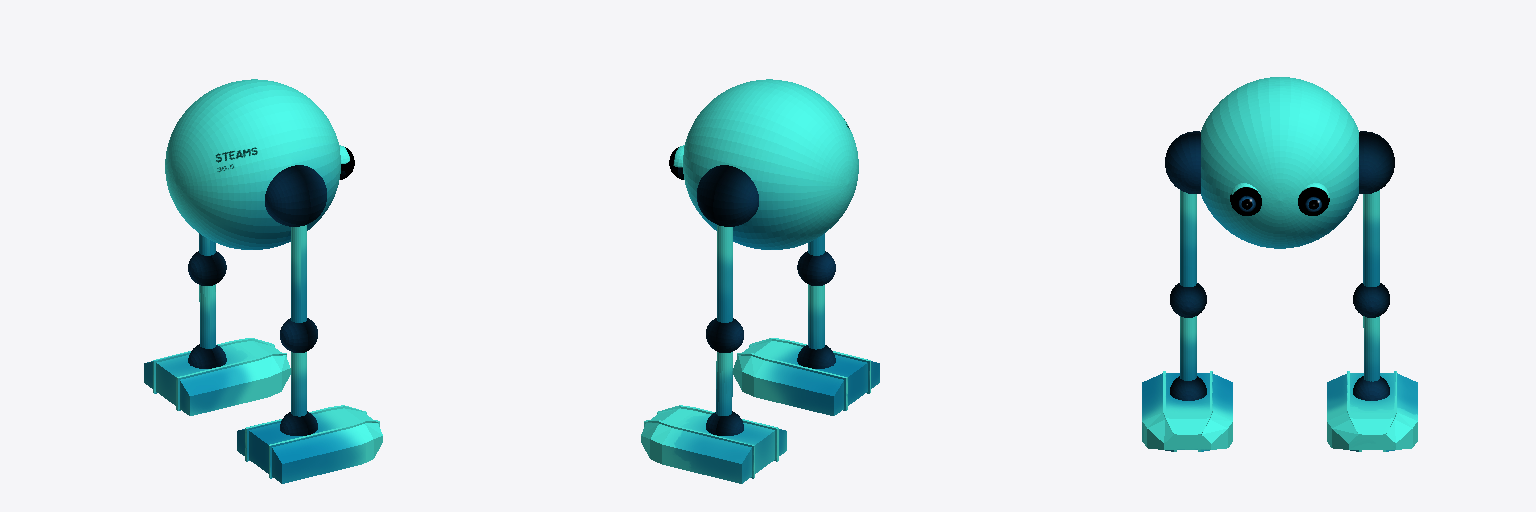
The picture shows the model from 3 angles: view 1: azimuth 30°, elevation 25°; view 2: azimuth 150°, elevation 25°; view 3: azimuth 270°, elevation 25°; orthographic projection.
Parts seen in each view (by area): view 1: Personaje1_still:SphereFBXASC046001, Personaje1_still:SphereFBXASC046001Left_legpolySurface10polySurf, Personaje1_still:SphereFBXASC046001Right_legpolySurface9polySurf, Personaje1_still:SphereFBXASC046001Right_leg, Personaje1_still:SphereFBXASC046001Right_legpolySurface9, Personaje1_still:polySurface3, Personaje1_still:polySurface4, Personaje1_still:polySurface1, Personaje1_still:polySurface2; view 2: Personaje1_still:SphereFBXASC046001, Personaje1_still:SphereFBXASC046001Right_legpolySurface9polySurf, Personaje1_still:SphereFBXASC046001Left_legpolySurface10polySurf, Personaje1_still:SphereFBXASC046001Left_leg, Personaje1_still:SphereFBXASC046001Left_legpolySurface10, Personaje1_still:polySurface4, Personaje1_still:polySurface3, Personaje1_still:polySurface1, Personaje1_still:polySurface2; view 3: Personaje1_still:SphereFBXASC046001, Personaje1_still:SphereFBXASC046001Right_legpolySurface9polySurf, Personaje1_still:SphereFBXASC046001Left_legpolySurface10polySurf, Personaje1_still:SphereFBXASC046001Right_leg, Personaje1_still:SphereFBXASC046001Left_leg, Personaje1_still:SphereFBXASC046001Right_legpolySurface9, Personaje1_still:SphereFBXASC046001Left_legpolySurface10, Personaje1_still:polySurface3, Personaje1_still:polySurface4, Personaje1_still:SphereFBXASC046001Right_eye, Personaje1_still:SphereFBXASC046001Left_eye, Personaje1_still:polySurface2 (+1 smaller).
Part boxes in pixels (x1,y1,x2,y2): Personaje1_still:SphereFBXASC046001: (165, 79, 340, 249); Personaje1_still:SphereFBXASC046001Left_legpolySurface10polySurf: (144, 284, 290, 415); Personaje1_still:SphereFBXASC046001Right_legpolySurface9polySurf: (237, 352, 382, 483); Personaje1_still:SphereFBXASC046001Right_leg: (265, 165, 326, 226); Personaje1_still:SphereFBXASC046001Right_legpolySurface9: (291, 225, 306, 322); Personaje1_still:polySurface3: (188, 251, 226, 285); Personaje1_still:polySurface4: (280, 318, 317, 352); Personaje1_still:polySurface1: (188, 344, 226, 368); Personaje1_still:polySurface2: (280, 411, 317, 435); Personaje1_still:SphereFBXASC046001: (683, 79, 858, 249); Personaje1_still:SphereFBXASC046001Right_legpolySurface9polySurf: (733, 284, 879, 415); Personaje1_still:SphereFBXASC046001Left_legpolySurface10polySurf: (641, 352, 786, 483); Personaje1_still:SphereFBXASC046001Left_leg: (697, 165, 758, 226); Personaje1_still:SphereFBXASC046001Left_legpolySurface10: (717, 225, 732, 322); Personaje1_still:polySurface4: (797, 251, 835, 285); Personaje1_still:polySurface3: (706, 318, 743, 352); Personaje1_still:polySurface1: (706, 411, 743, 435); Personaje1_still:polySurface2: (797, 345, 835, 368); Personaje1_still:SphereFBXASC046001: (1201, 77, 1358, 248); Personaje1_still:SphereFBXASC046001Right_legpolySurface9polySurf: (1142, 316, 1232, 451); Personaje1_still:SphereFBXASC046001Left_legpolySurface10polySurf: (1327, 316, 1417, 451); Personaje1_still:SphereFBXASC046001Right_leg: (1165, 131, 1200, 193); Personaje1_still:SphereFBXASC046001Left_leg: (1359, 131, 1394, 193); Personaje1_still:SphereFBXASC046001Right_legpolySurface9: (1180, 190, 1196, 286); Personaje1_still:SphereFBXASC046001Left_legpolySurface10: (1363, 190, 1379, 286); Personaje1_still:polySurface3: (1353, 283, 1389, 317); Personaje1_still:polySurface4: (1170, 283, 1206, 317); Personaje1_still:SphereFBXASC046001Right_eye: (1230, 183, 1261, 215); Personaje1_still:SphereFBXASC046001Left_eye: (1298, 183, 1329, 215); Personaje1_still:polySurface2: (1170, 376, 1206, 400).
Bounding box in the file's own units: 11.66 × 23.5 × 17.36.
1 materials, 1 textured.